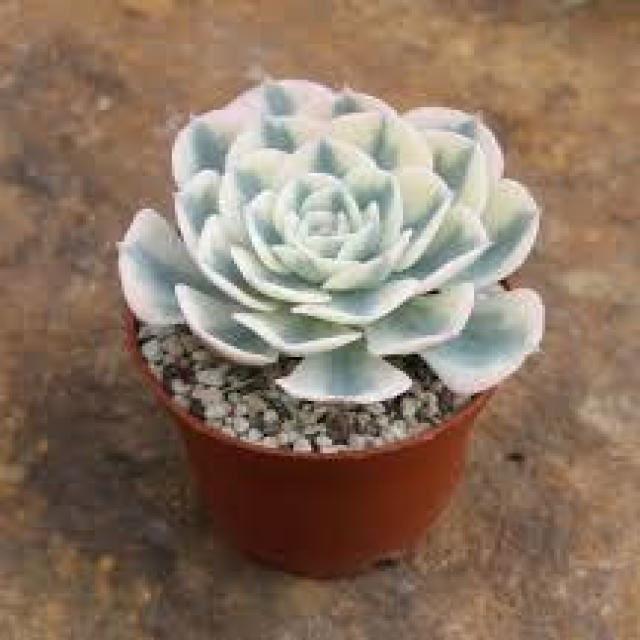organic waste: (114, 73, 553, 452)
